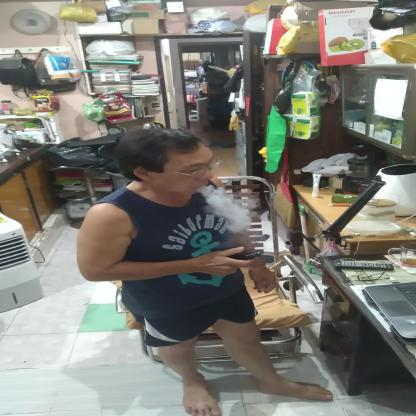person: (70, 118, 304, 414)
smoke: (198, 187, 252, 234)
